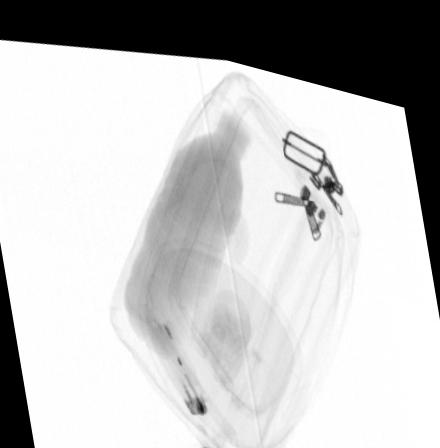Lighter: (150, 309, 208, 407)
